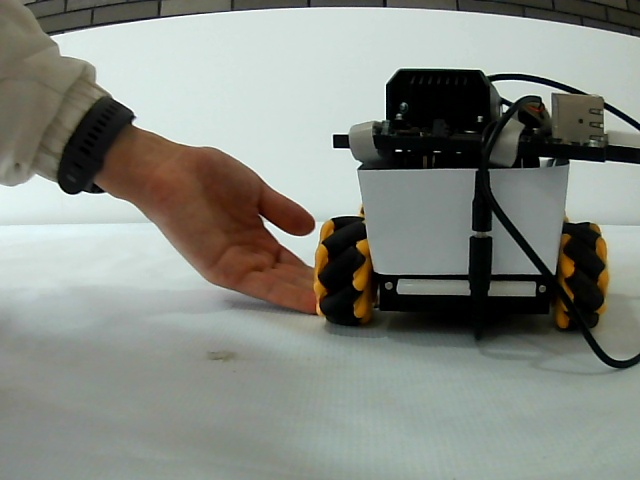car: (321, 67, 608, 317)
paper: (363, 172, 560, 273)
